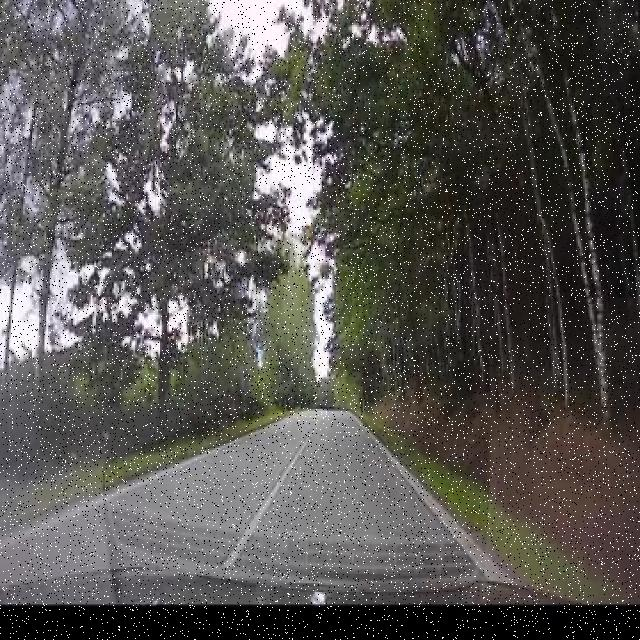clear-road: (107, 411, 322, 536), (259, 410, 447, 534)
